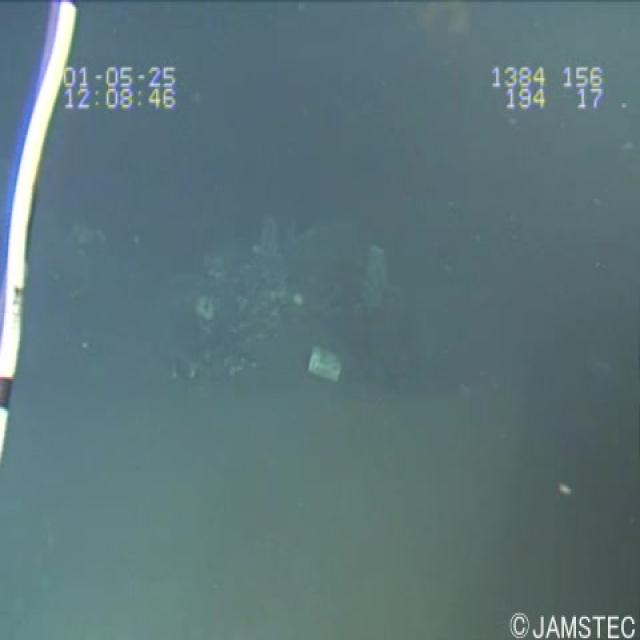plastic: (300, 340, 347, 390)
